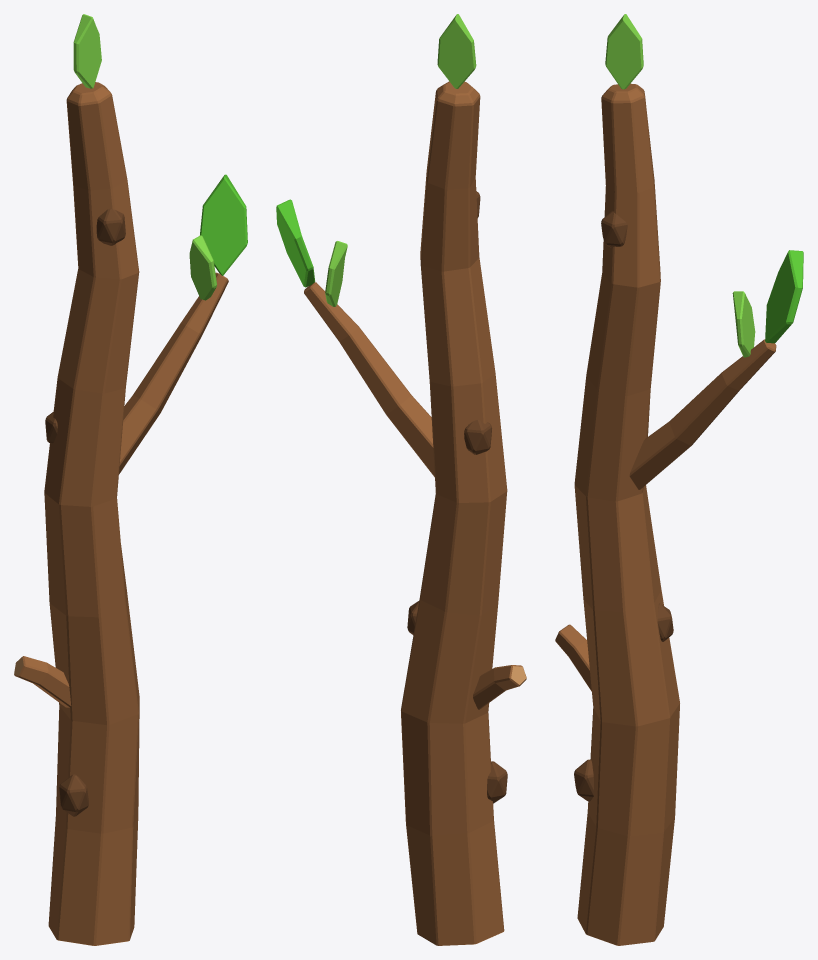
The model's file is myw_stick.glb.
3 views of the same model, side by side, from view 1: azimuth 30°, elevation 25°; view 2: azimuth 150°, elevation 25°; view 3: azimuth 330°, elevation 25° (orthographic).
Parts seen in each view (by area): view 1: Stick, Leaf_Twig, Leaf_Top, Leaf_Twig2; view 2: Stick, Leaf_Top, Leaf_Twig, Leaf_Twig2; view 3: Stick, Leaf_Twig, Leaf_Top, Leaf_Twig2.
Boxes of the visible parts, x1,y1,x2,y2 form: Stick: (14, 82, 228, 945); Leaf_Twig: (200, 174, 247, 275); Leaf_Top: (73, 14, 101, 88); Leaf_Twig2: (189, 235, 216, 300); Stick: (304, 81, 526, 945); Leaf_Top: (437, 14, 476, 88); Leaf_Twig: (276, 199, 315, 287); Leaf_Twig2: (325, 241, 347, 306); Stick: (555, 83, 776, 945); Leaf_Twig: (765, 250, 803, 343); Leaf_Top: (605, 14, 643, 89); Leaf_Twig2: (732, 291, 755, 357).
Bounding box in the file's own units: 1.01 × 3.72 × 0.3446.
